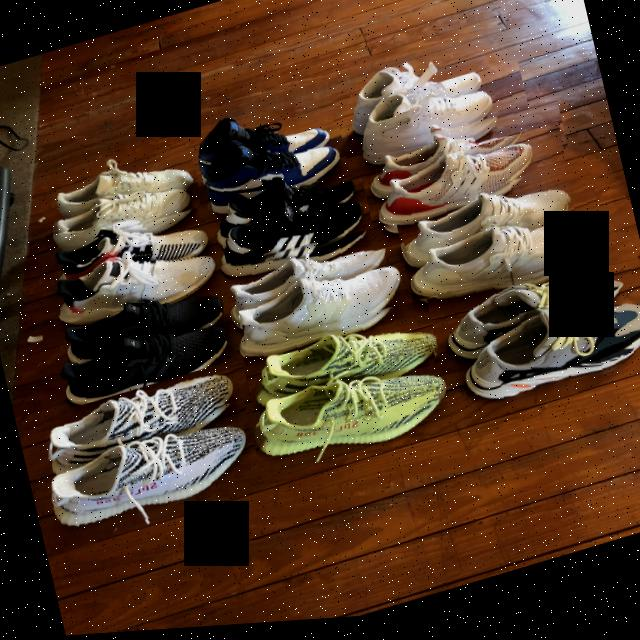shoe: (38, 401, 264, 548), (435, 284, 640, 432), (426, 245, 640, 382), (243, 295, 455, 432), (202, 246, 420, 377), (32, 360, 256, 486), (40, 296, 252, 426), (253, 347, 451, 485), (346, 98, 569, 217), (24, 223, 232, 348), (361, 128, 573, 245), (39, 266, 248, 378), (332, 65, 532, 182), (186, 87, 352, 227), (393, 166, 600, 277), (216, 217, 412, 326), (400, 209, 586, 313), (28, 168, 206, 271), (210, 182, 377, 290), (42, 206, 218, 300), (192, 126, 352, 226), (40, 144, 200, 237)
